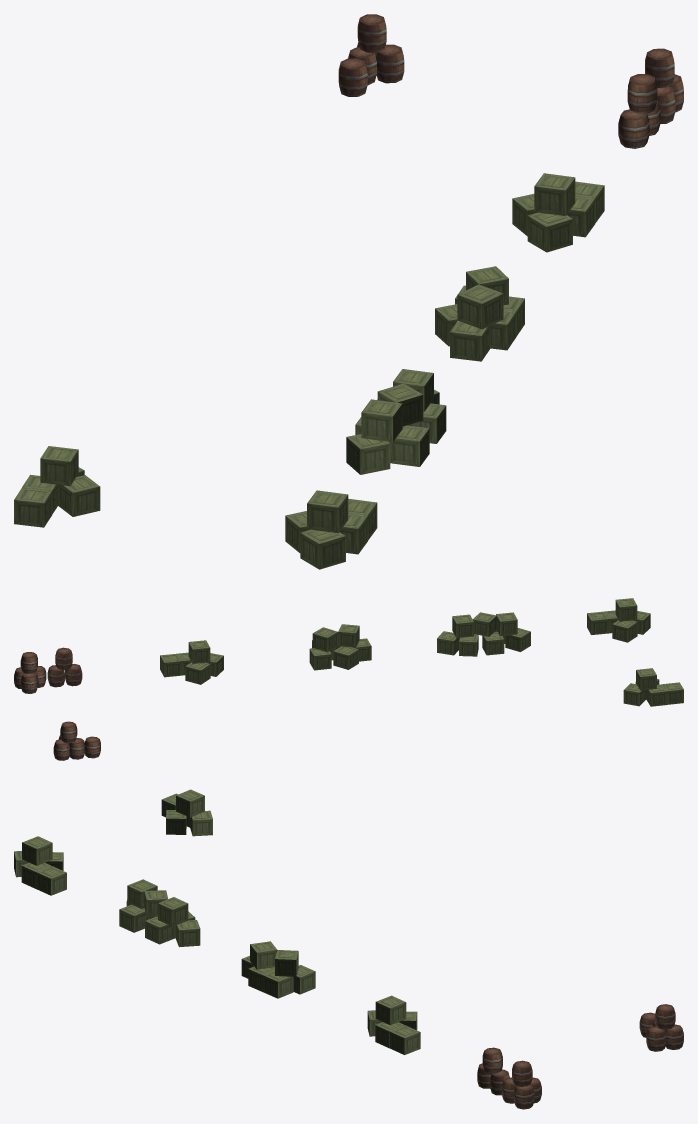
The model's file is wujian38.fbx.
The picture shows the model from 3 angles, top to bottom: view 1: azimuth 30°, elevation 25°; view 2: azimuth 150°, elevation 25°; view 3: azimuth 270°, elevation 25°; orthographic projection. The views are drawn at different scales.
Parts seen in each view (by area): view 1: wujian38; view 2: wujian38; view 3: wujian38.
Boxes of the visible parts, x1,y1,x2,y2 form: wujian38: (14,14,683,569); wujian38: (14,598,683,760); wujian38: (14,789,683,1109).
Size of the model in its own units: 4002 by 239 by 3777.
1 material, 1 textured.
